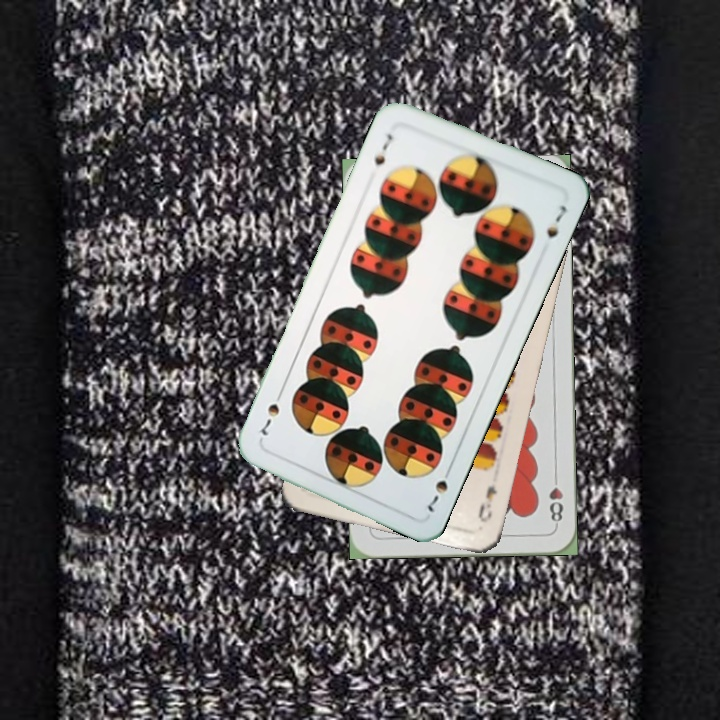E9: (474, 481, 500, 525)
H8: (545, 470, 565, 529)
S7: (423, 462, 455, 515), (370, 129, 395, 171)
